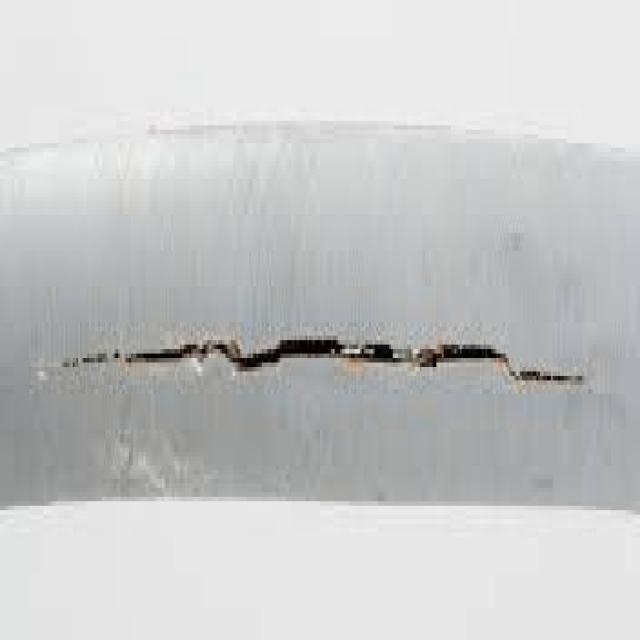crack: (65, 336, 587, 389)
